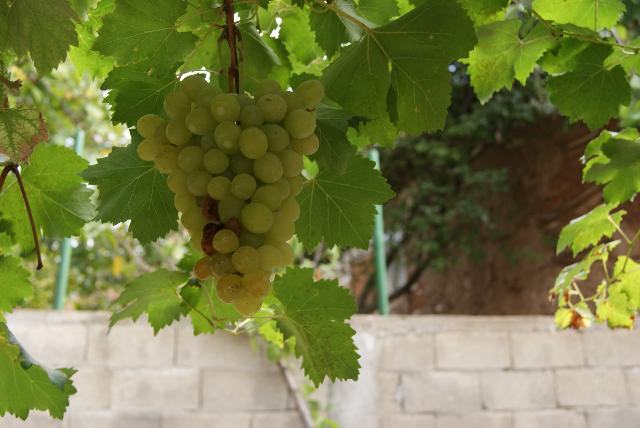grapes: (136, 75, 325, 316)
